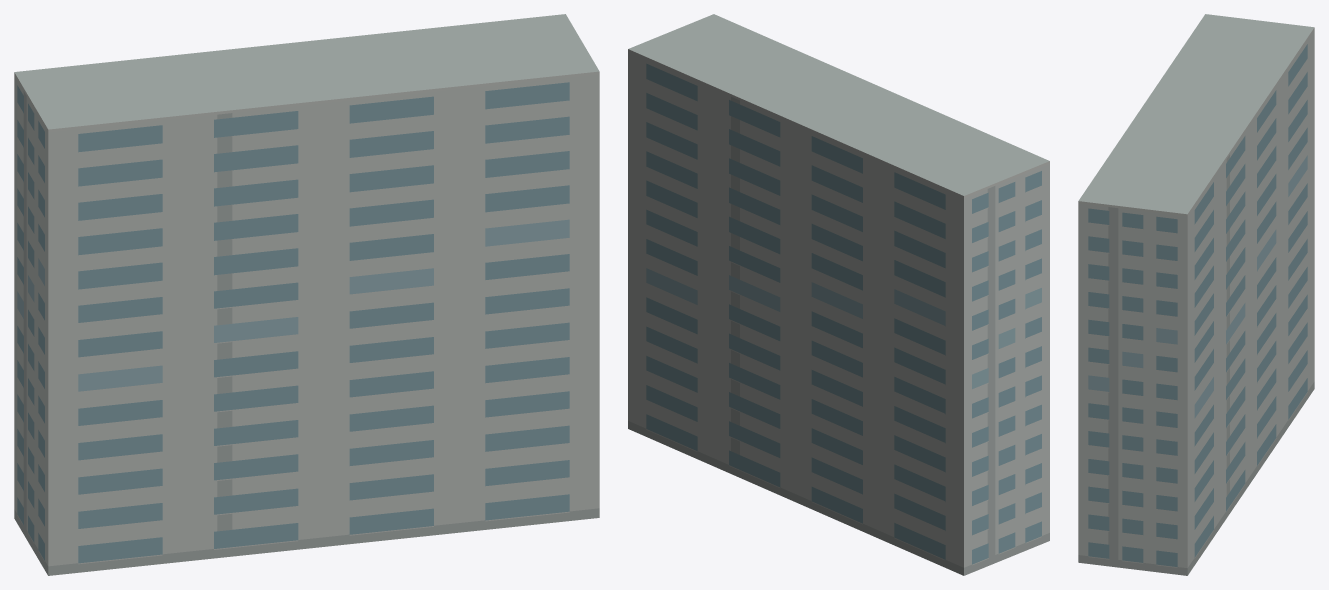
The model's file is residential-557be2d2-875f-4793-8e6e-b2ca4027f2eb.glb.
The picture shows the model from 3 angles, left to right: view 1: azimuth 30°, elevation 25°; view 2: azimuth 150°, elevation 25°; view 3: azimuth 270°, elevation 25°; orthographic projection. The views are drawn at different scales.
Parts seen in each view (by area): view 1: residential-557be2d2-875f-4793-8e6e-b2ca4027f2eb.tmp; view 2: residential-557be2d2-875f-4793-8e6e-b2ca4027f2eb.tmp; view 3: residential-557be2d2-875f-4793-8e6e-b2ca4027f2eb.tmp.
Boxes of the visible parts, x1=… form: residential-557be2d2-875f-4793-8e6e-b2ca4027f2eb.tmp: x1=14, y1=14, x2=599, y2=575; residential-557be2d2-875f-4793-8e6e-b2ca4027f2eb.tmp: x1=628, y1=14, x2=1049, y2=575; residential-557be2d2-875f-4793-8e6e-b2ca4027f2eb.tmp: x1=1078, y1=14, x2=1314, y2=575.
Bounding box in the file's own units: 45.14 × 38 × 22.51.
